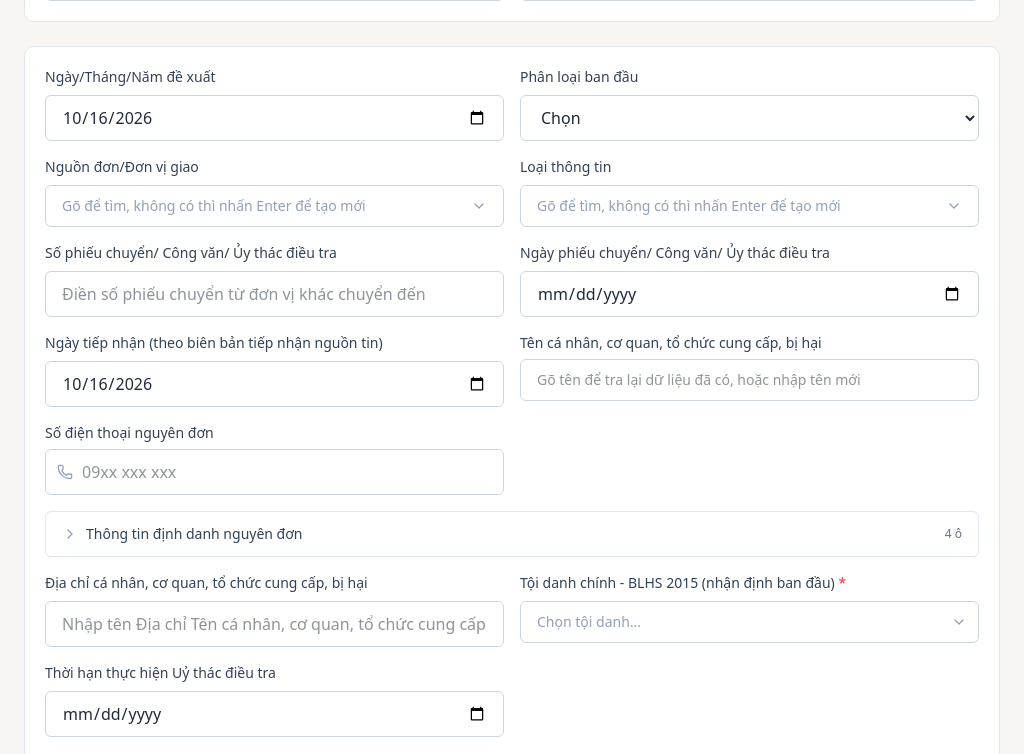
Scenario: PetitionFormPage — gợi ý từng đơn theo tên người gửi › chọn một hàng → điền ĐÚNG tên của đơn đó vào ô và đóng danh sách
(page scrolled)
Type "tran" into the dropdown with test id "field-senderName".
click(750, 380); type("tran")  # box [520,359,979,401]
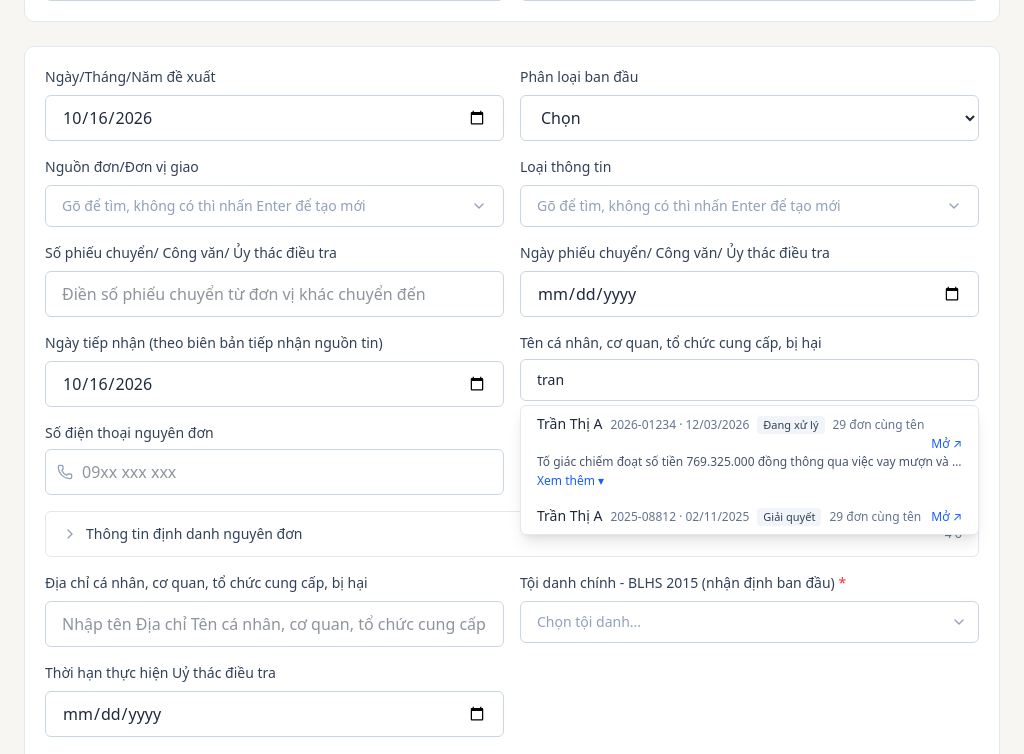
Expected: the list with test id "field-senderName-goi-y" is shown, [520,405,979,535]
Press the mouse on the option with test id "goi-y-don-p2" at (750, 516), box [537,506,962,526]
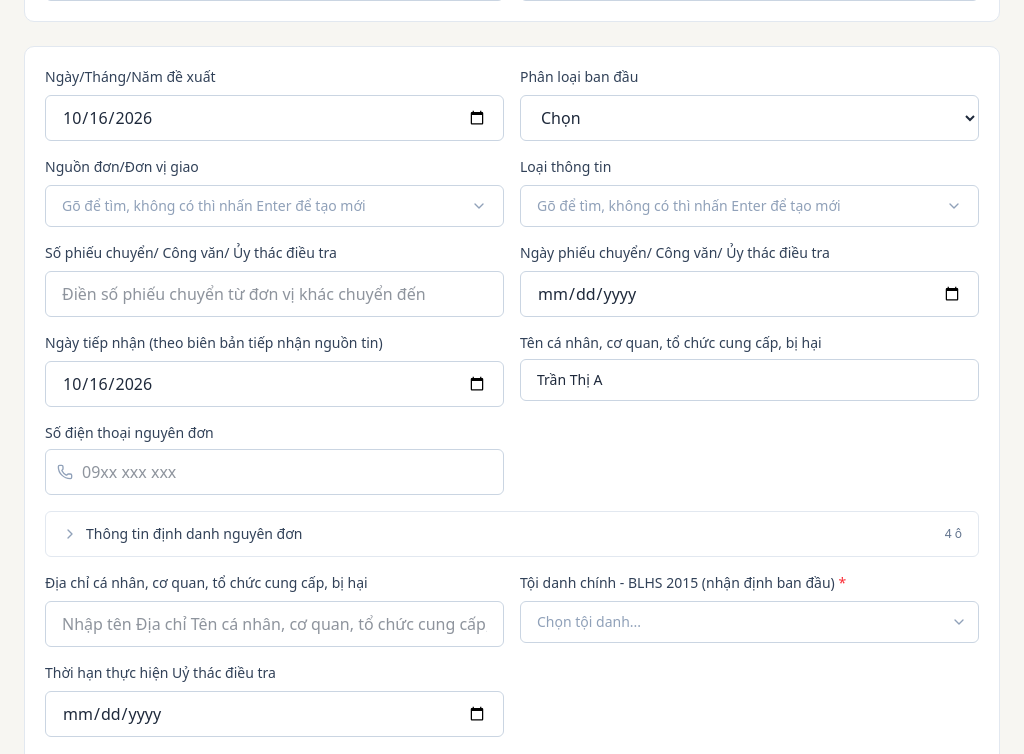
Expected: the dropdown with test id "field-senderName" holds "Trần Thị A", [520,359,979,401]
Expected: the list with test id "field-senderName-goi-y" is gone
